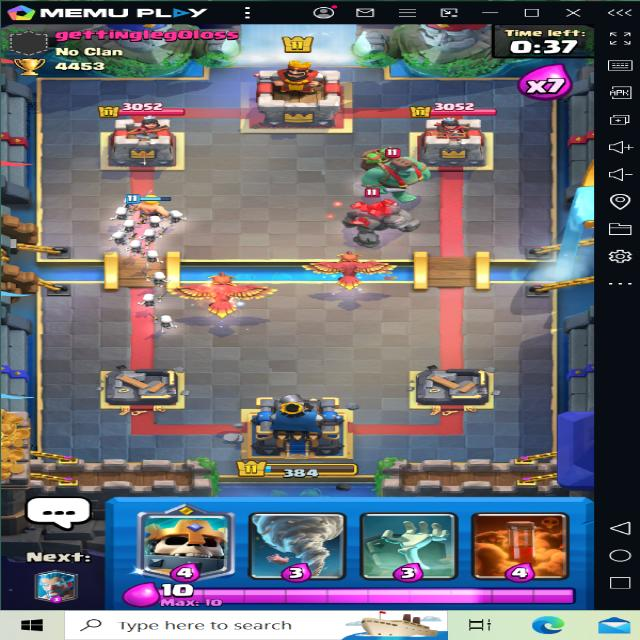goblin-giant: (361, 149, 431, 199)
golem: (328, 186, 419, 246)
